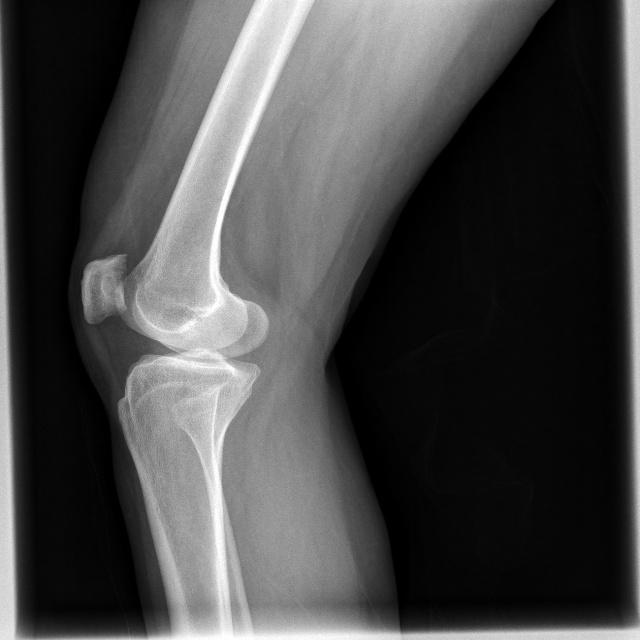Knee: (77, 247, 269, 414)
